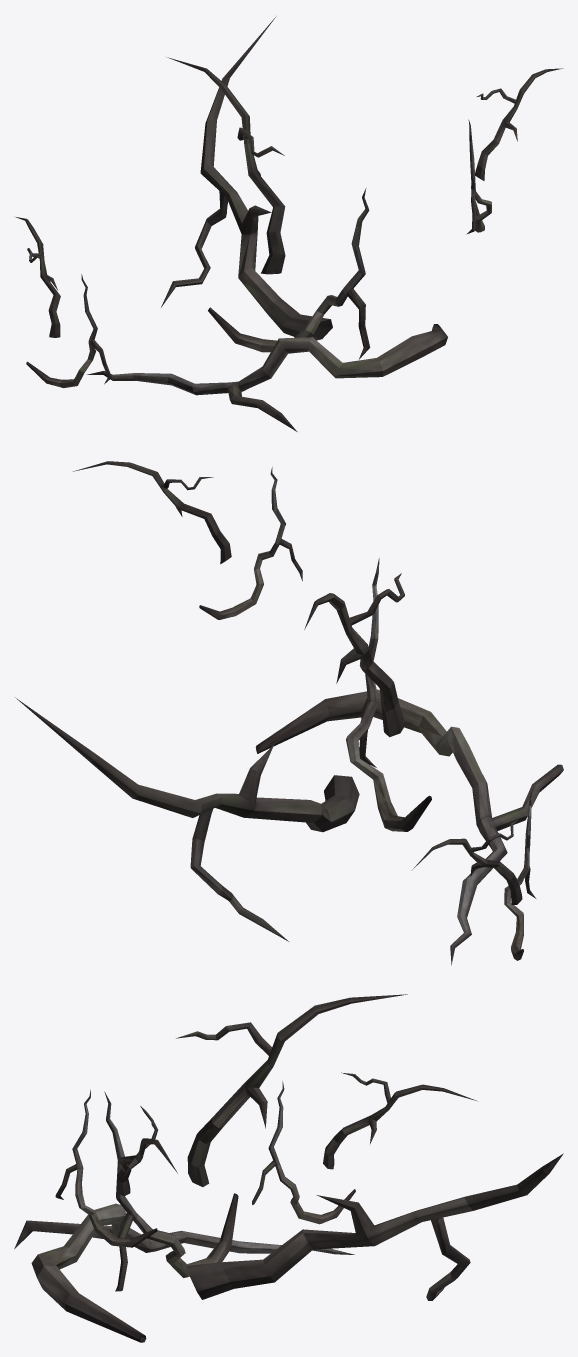
The model's file is Area14_9.fbx.
The picture shows the model from 3 angles, top to bottom: view 1: azimuth 30°, elevation 25°; view 2: azimuth 150°, elevation 25°; view 3: azimuth 270°, elevation 25°; orthographic projection. The views are drawn at different scales.
Visible parts, largest first — view 1: Area14_9; view 2: Area14_9; view 3: Area14_9.
Part boxes in pixels (x1,y1,x2,y2): Area14_9: (14,16,563,431); Area14_9: (15,461,563,965); Area14_9: (14,994,563,1342).
Bounding box in the file's own units: 947 × 548 × 848.
